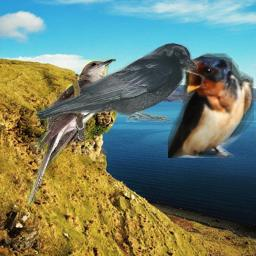Crow: (34, 42, 198, 122)
Cuckoo: (28, 58, 116, 205)
Swallow: (168, 53, 254, 158)
